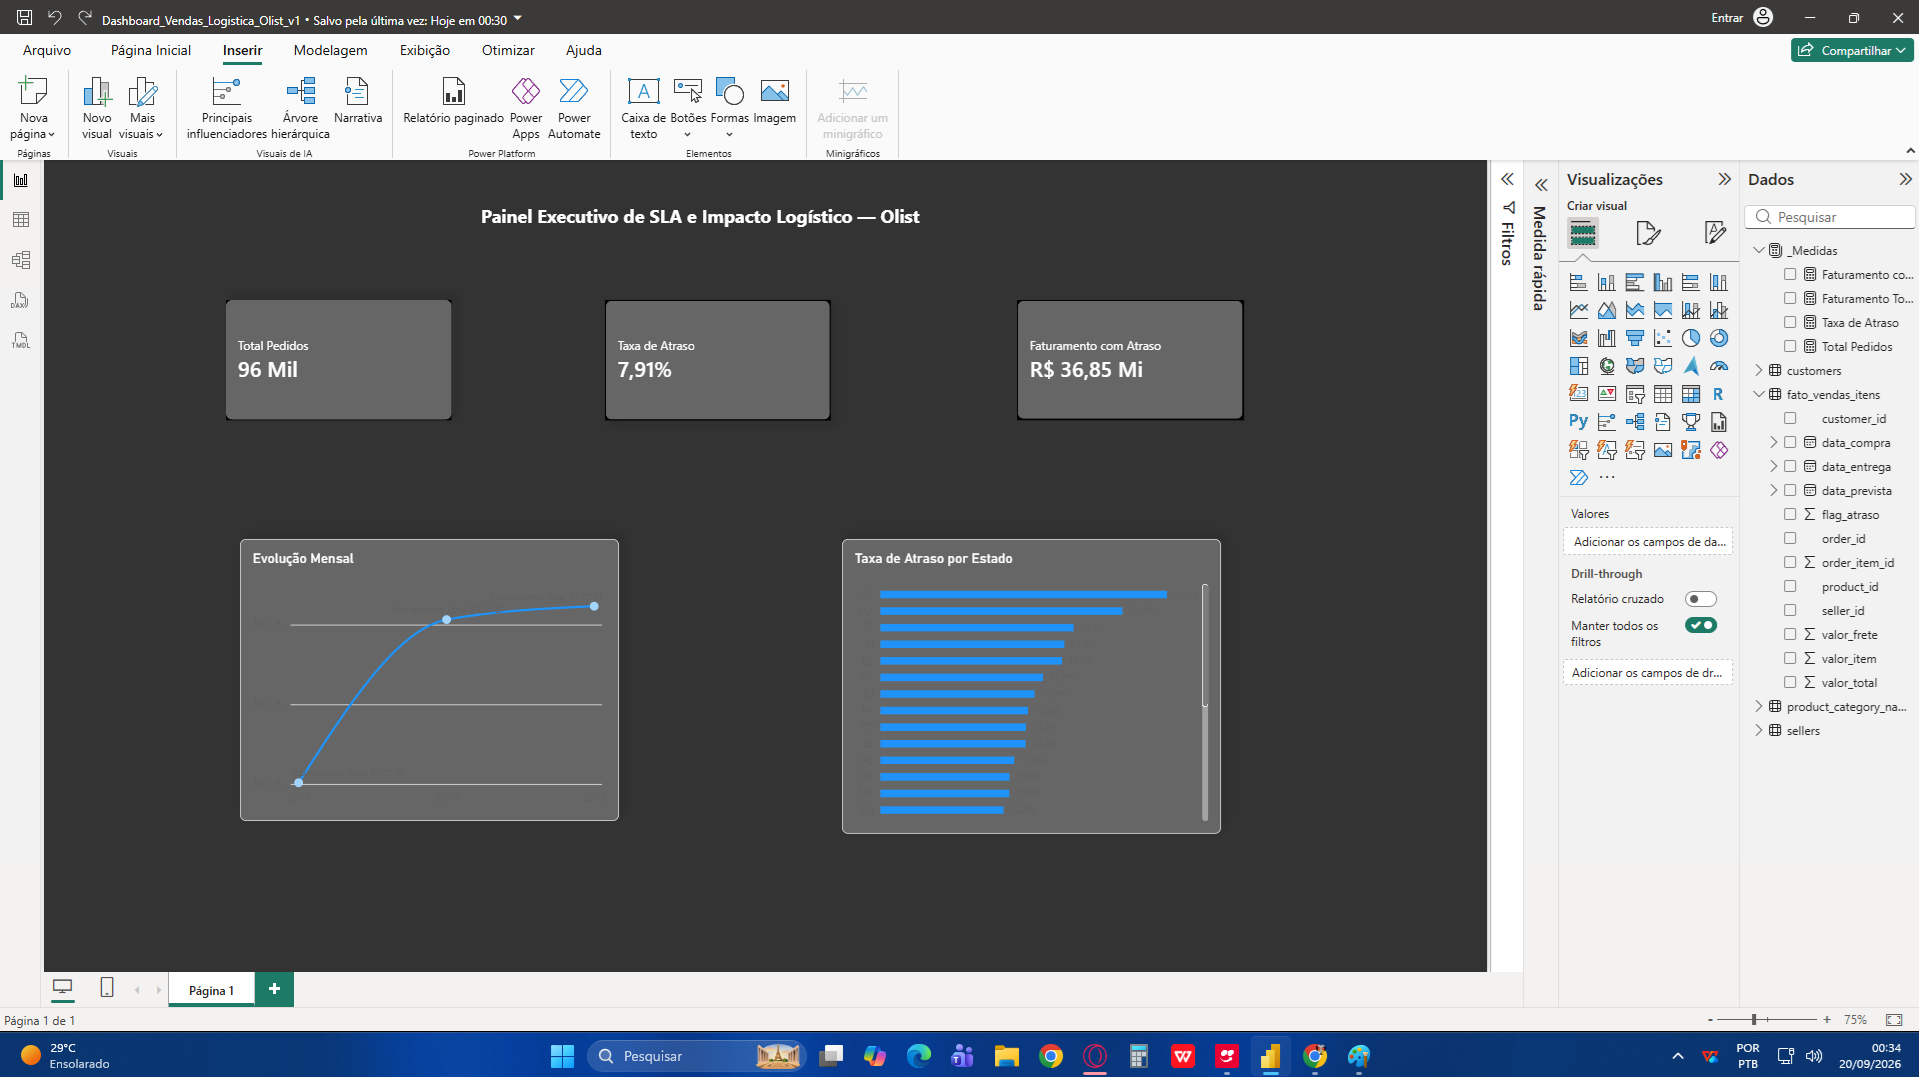

Layout of this report page (visuals, bound fields, positions):
{"tool":"powerbi","page":{"name":"Página 1","canvas":[1920,1080],"ordinal":0},"visuals":[{"type":"lineChart","title":"Evolução Mensal","fields":{"Y":["_Medidas.Faturamento Total"],"Category":["fato_vendas_itens.data_compra.Variation.Hierarquia de datas.Ano","fato_vendas_itens.data_compra.Variation.Hierarquia de datas.Trimestre","fato_vendas_itens.data_compra.Variation.Hierarquia de datas.Mês","fato_vendas_itens.data_compra.Variation.Hierarquia de datas.Dia"]},"box":[260.7,504.1,504.1,375.1],"z":0},{"type":"clusteredBarChart","title":"Taxa de Atraso por Estado","fields":{"Category":["customers.customer_state"],"Y":["_Medidas.Taxa de Atraso"]},"box":[1061.4,504.1,504.1,392.4],"z":1000},{"type":"cardVisual","fields":{"Data":["_Medidas.Total Pedidos"]},"box":[242.1,186.2,300,159.5],"z":2000},{"type":"cardVisual","fields":{"Data":["_Medidas.Taxa de Atraso"]},"box":[746.2,186.2,300,160],"z":3000},{"type":"cardVisual","fields":{"Data":["_Medidas.Faturamento com Atraso"]},"box":[1294.1,186.2,301.9,159.6],"z":4000},{"type":"textbox","box":[581.2,57.2,756.8,113.1],"z":5000}]}

Visuals, with their boxes on the page's 1920x1080 design canvas (x1, y1, x2, y2). These are canvas units, not pixel positions in the 1919x1077 screenshot, which may show the page scaled, cropped or inside an application window:
"Evolução Mensal" lineChart: [x1=261, y1=504, x2=765, y2=879]
"Taxa de Atraso por Estado" clusteredBarChart: [x1=1061, y1=504, x2=1566, y2=896]
cardVisual - _Medidas.Total Pedidos: [x1=242, y1=186, x2=542, y2=346]
cardVisual - _Medidas.Taxa de Atraso: [x1=746, y1=186, x2=1046, y2=346]
cardVisual - _Medidas.Faturamento com Atraso: [x1=1294, y1=186, x2=1596, y2=346]
textbox: [x1=581, y1=57, x2=1338, y2=170]
